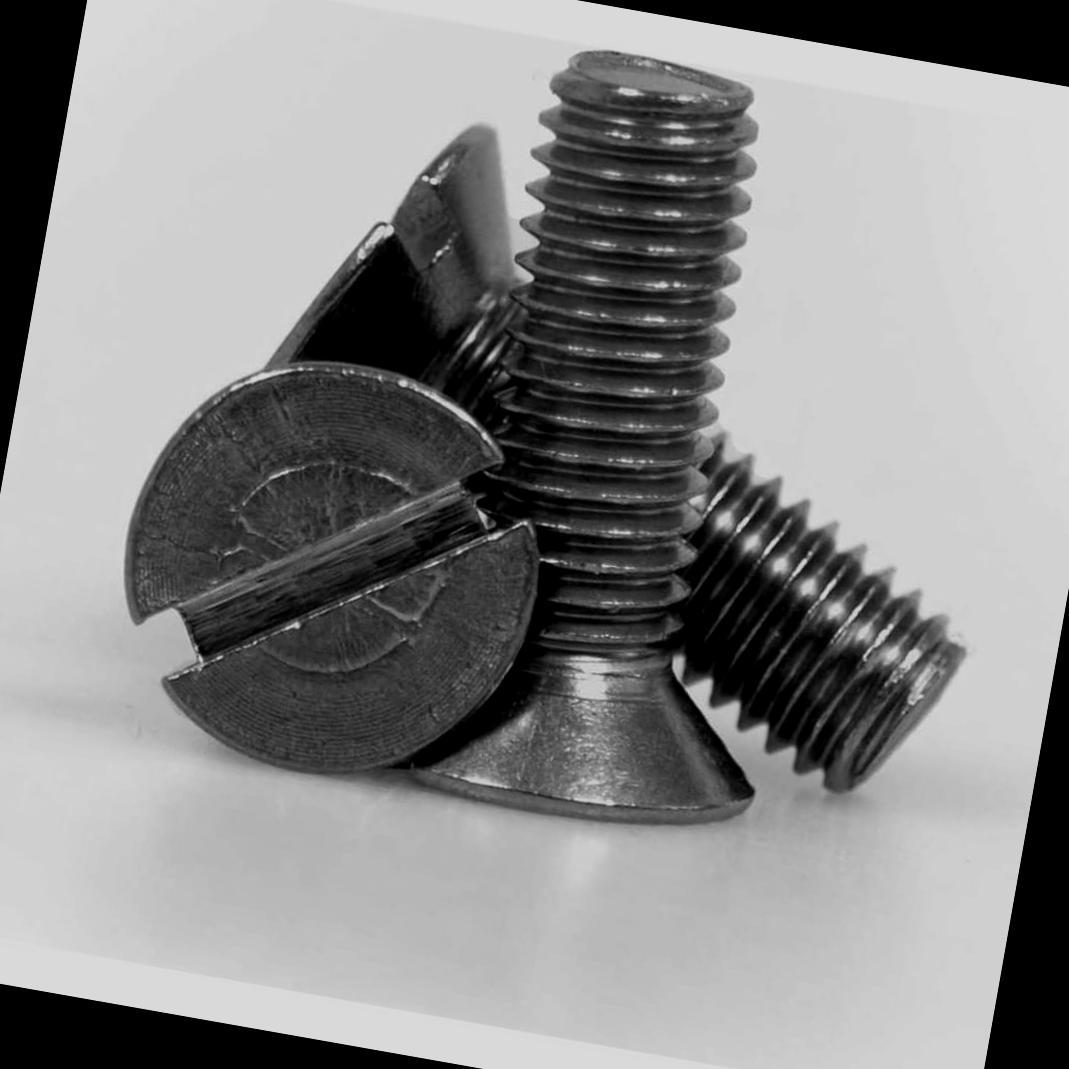screw: (92, 335, 577, 804)
